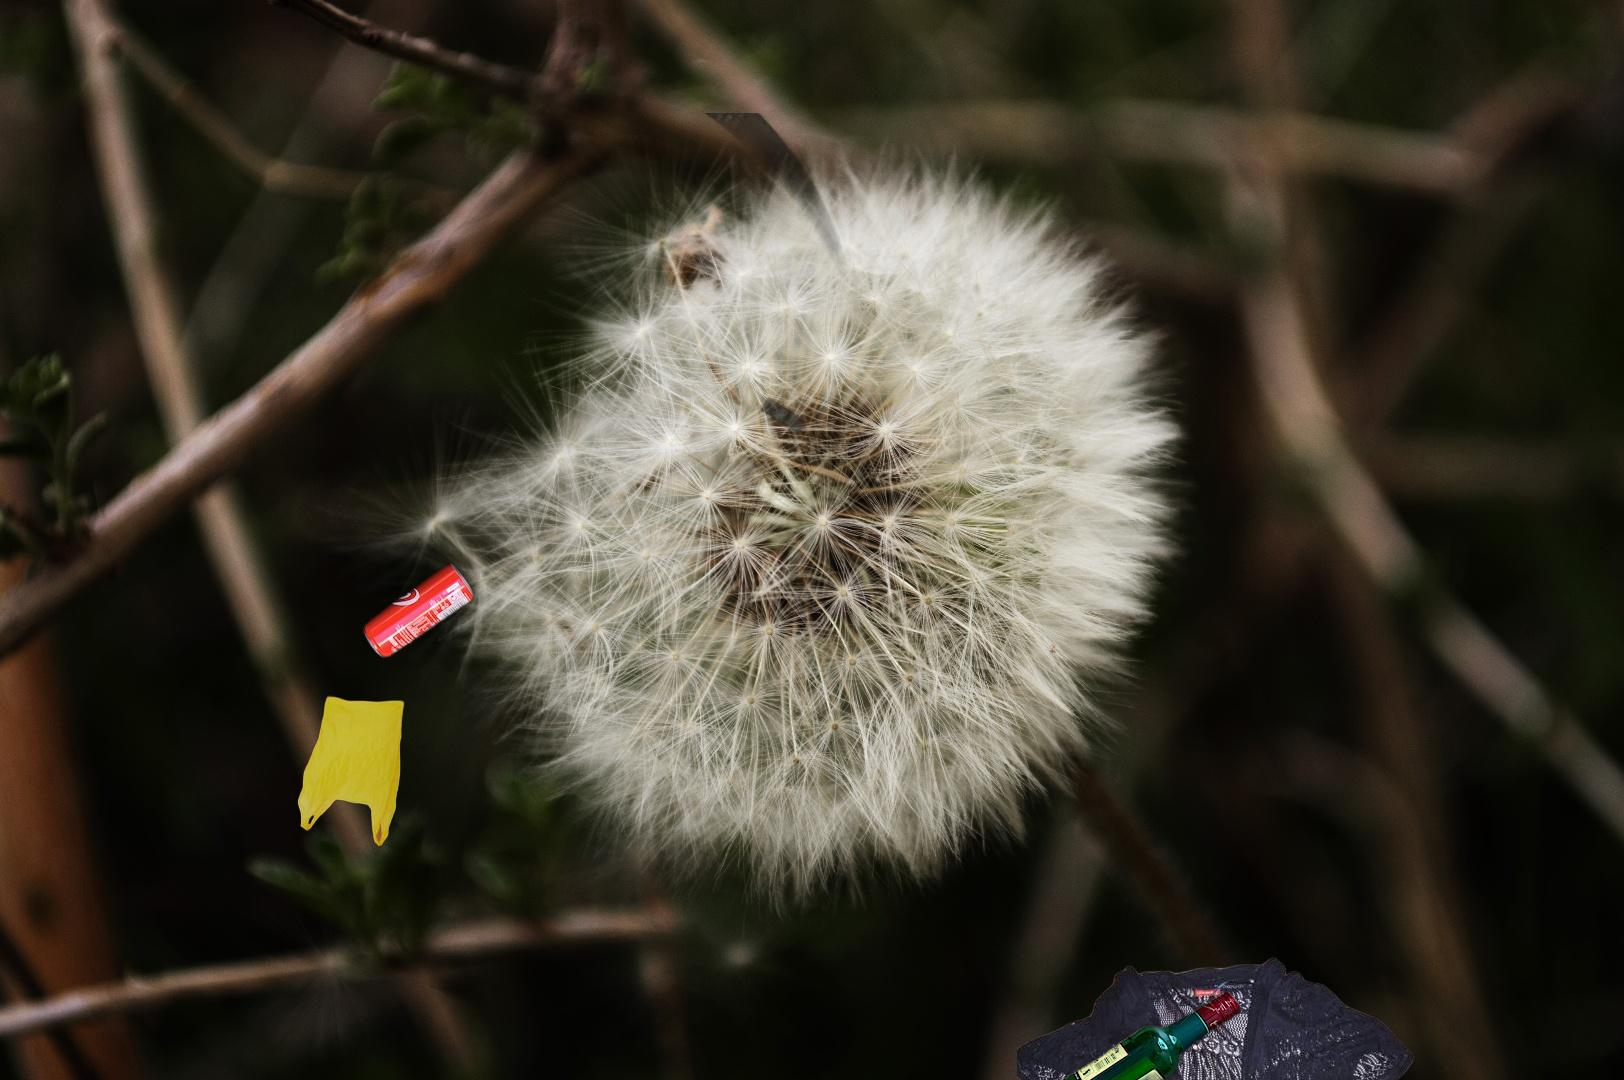clothes: (1017, 953, 1417, 1080)
glass: (1032, 985, 1246, 1080), (1602, 711, 1624, 1080)
metal-cans: (359, 556, 479, 663)
plastic-bag: (296, 692, 407, 850)
trashbox-cardboard: (486, 113, 852, 497)
